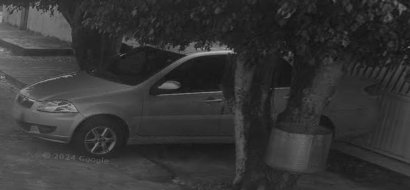car: (11, 39, 223, 175)
